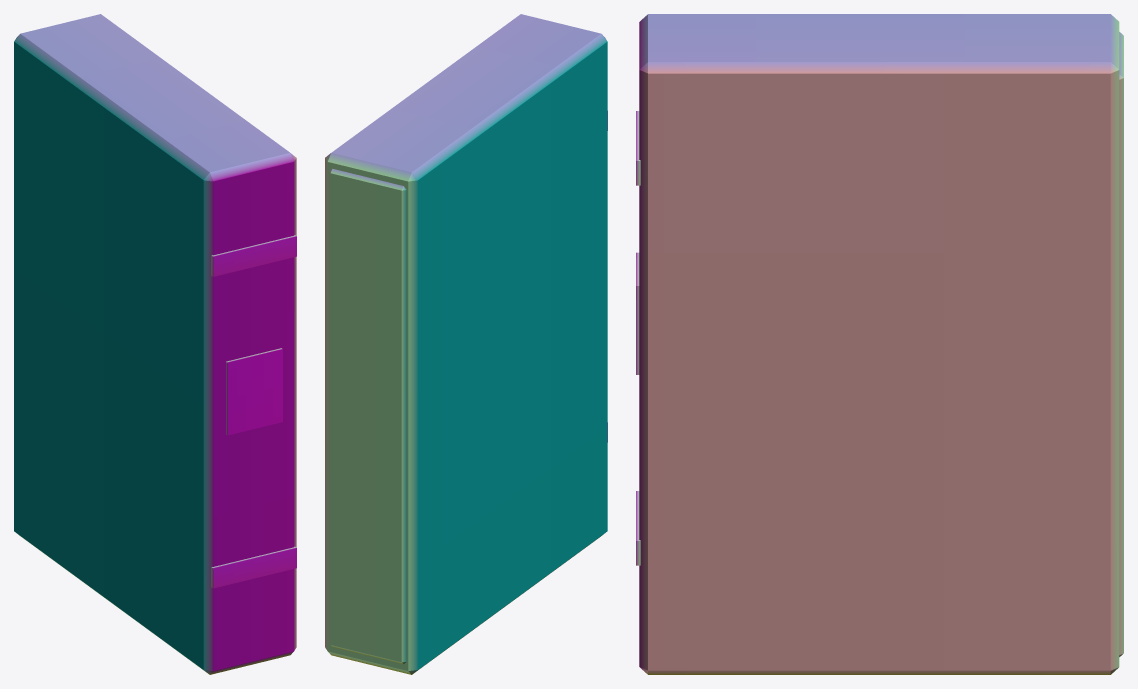
The model's file is env_book_green.glb.
3 views of the same model, side by side, from view 1: azimuth 30°, elevation 25°; view 2: azimuth 150°, elevation 25°; view 3: azimuth 270°, elevation 25° (orthographic). The views are drawn at different scales.
Parts seen in each view (by area): view 1: env_book_green_mesh; view 2: env_book_green_mesh; view 3: env_book_green_mesh.
Boxes of the visible parts, <box> form: env_book_green_mesh: <box>14,14,296,674</box>; env_book_green_mesh: <box>325,14,607,674</box>; env_book_green_mesh: <box>636,14,1123,674</box>.
Size of the model in its own units: 0.12 by 0.62 by 0.447.
